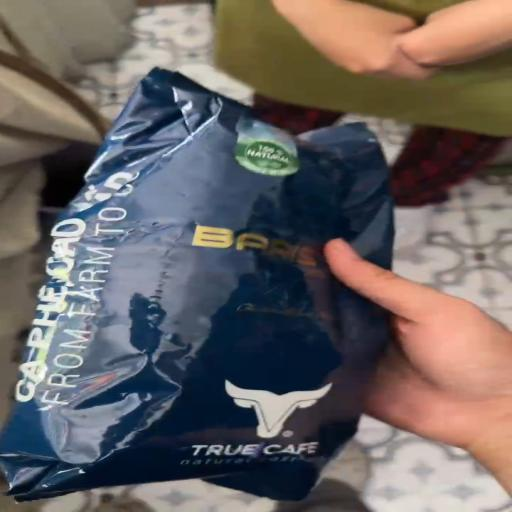cafe_hat: (0, 68, 393, 501)
